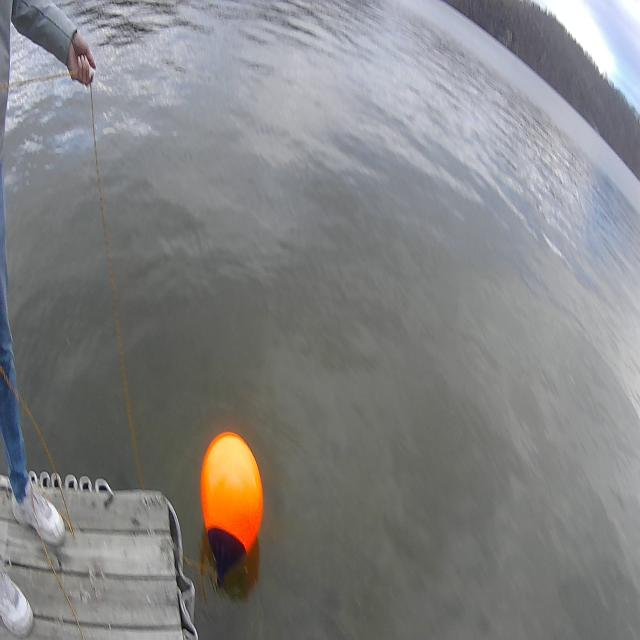Buoy: (198, 428, 267, 565)
